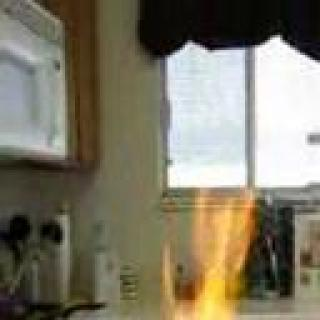fire: (105, 209, 259, 320)
